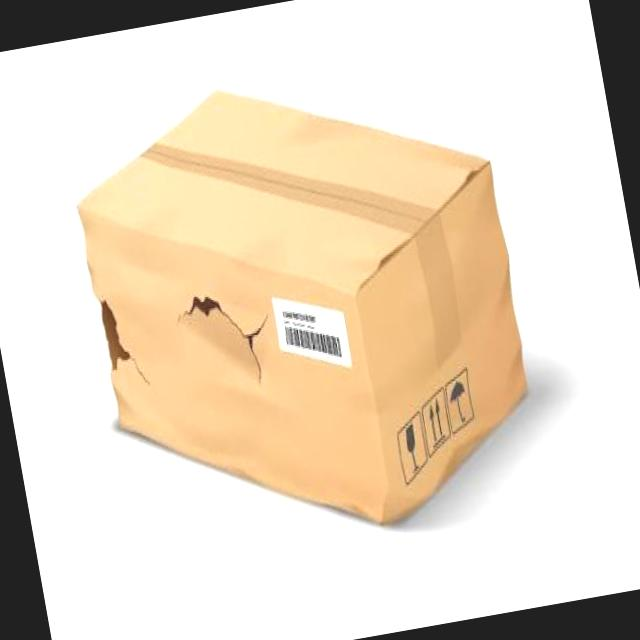carton_box: (50, 41, 557, 580)
fragile_label: (386, 413, 434, 484)
keep_dry_label: (444, 368, 477, 434)
package_damage: (162, 260, 300, 410), (82, 256, 167, 422)
this_side_up_label: (416, 389, 454, 451)
